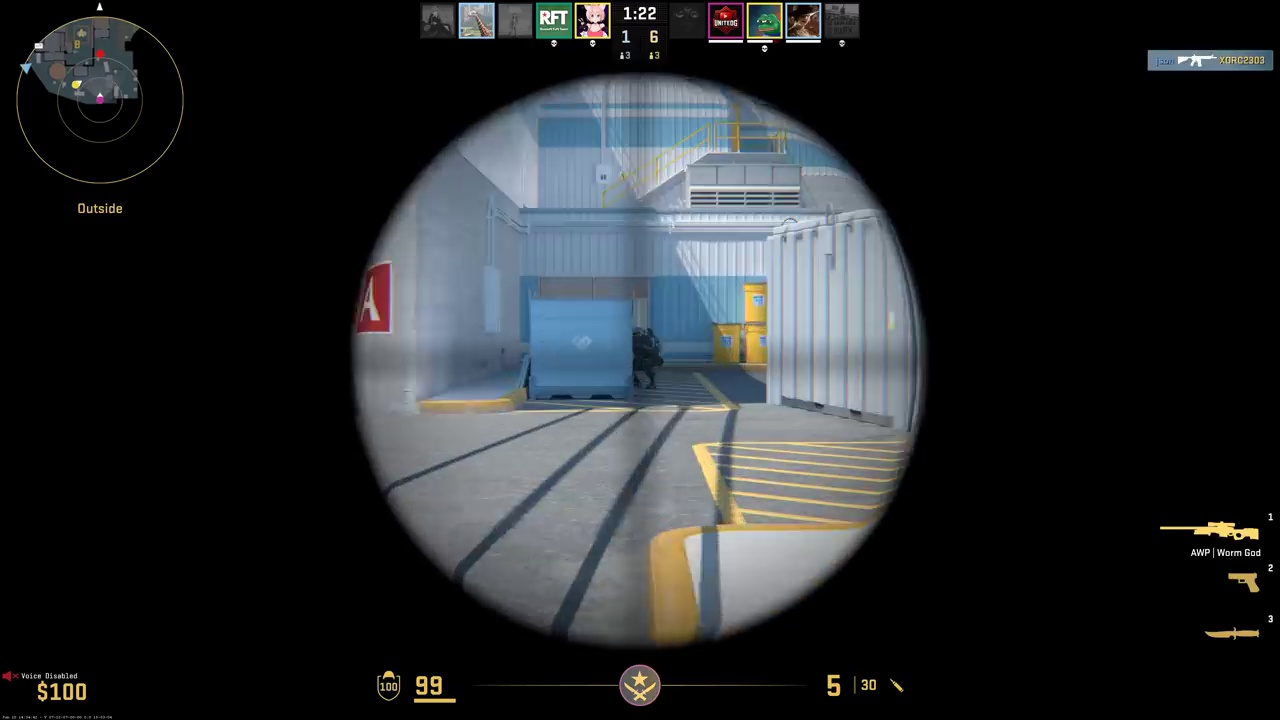CT: (631, 327, 659, 389)
